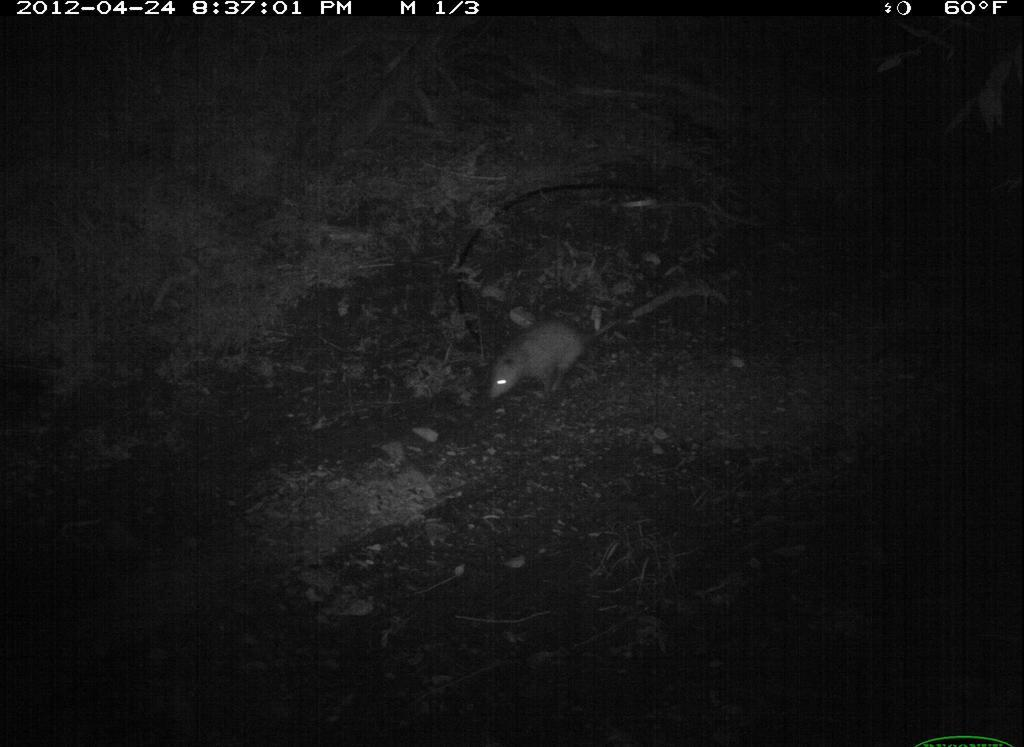opossum: (481, 304, 649, 409)
